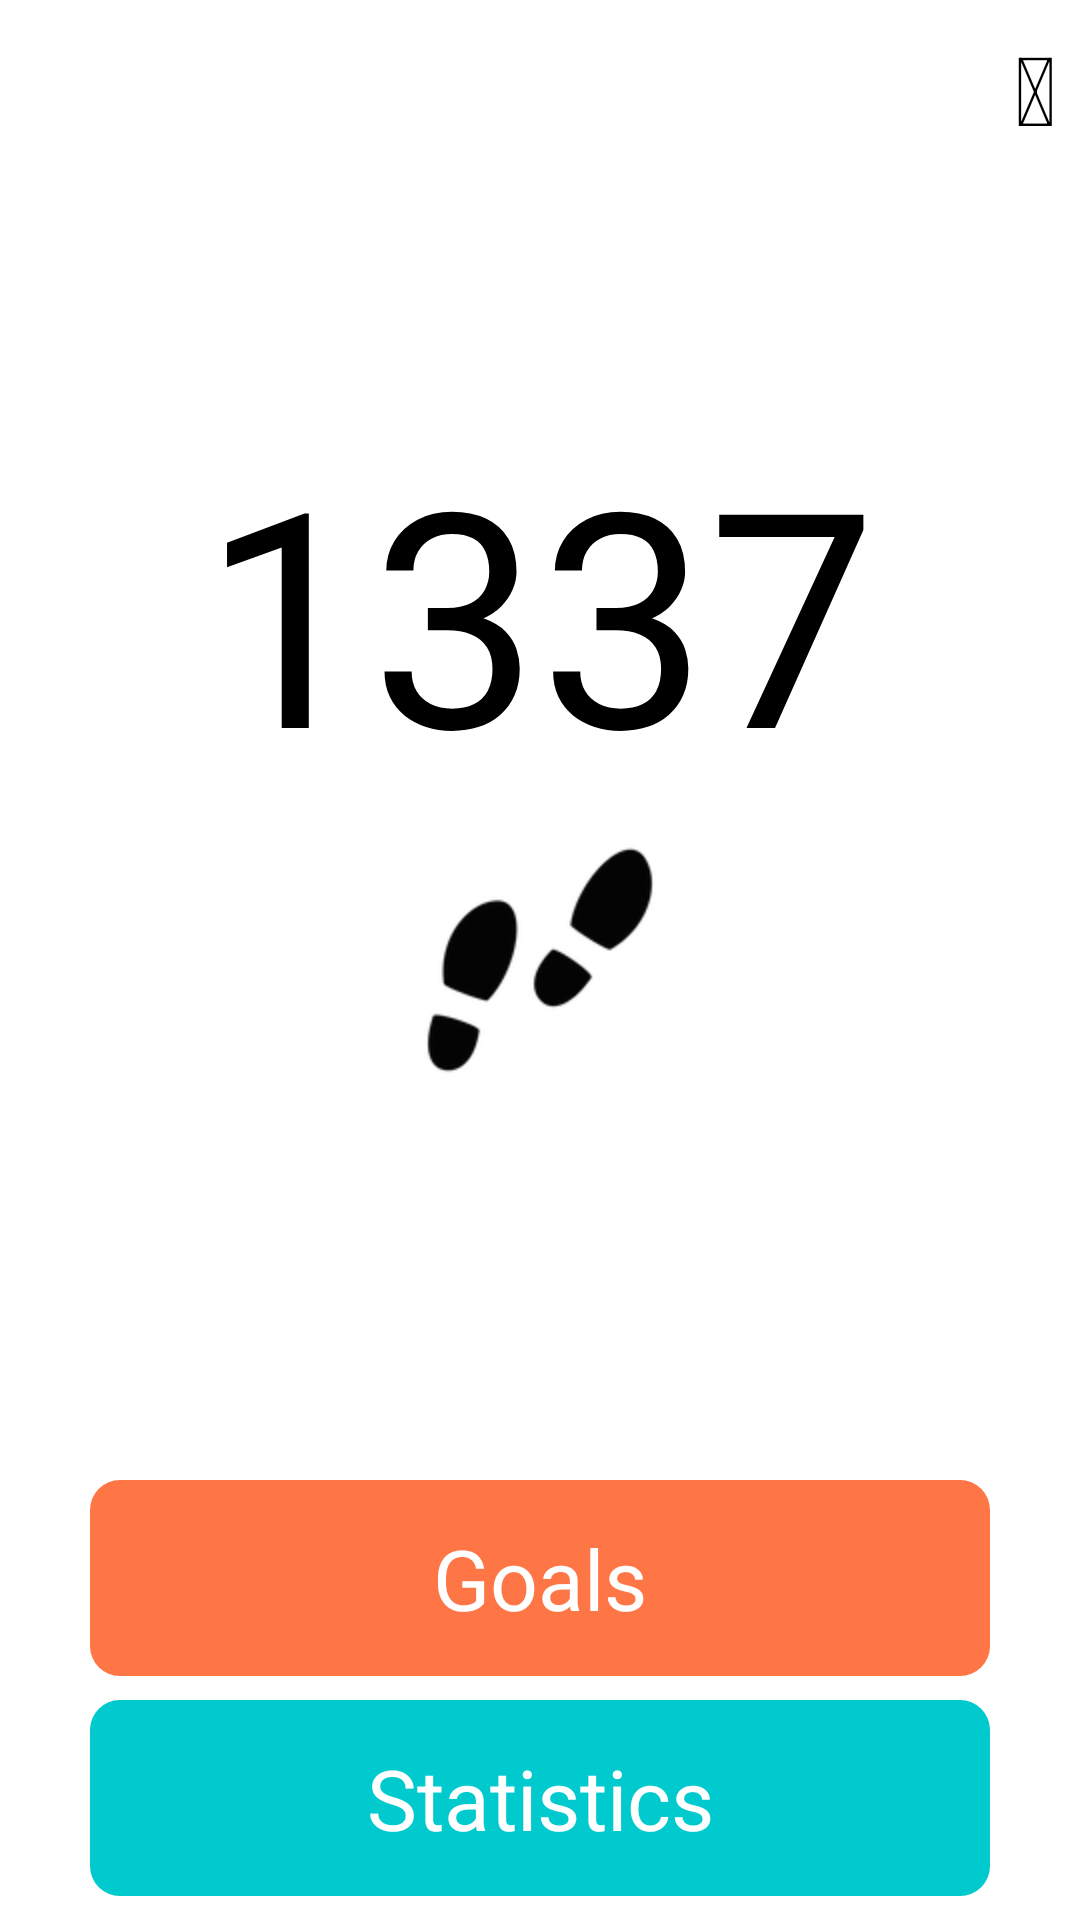

Screen size 1080*1920. Icon name, then its center in pixels as [x,y]:
footsteps: [540,960]
